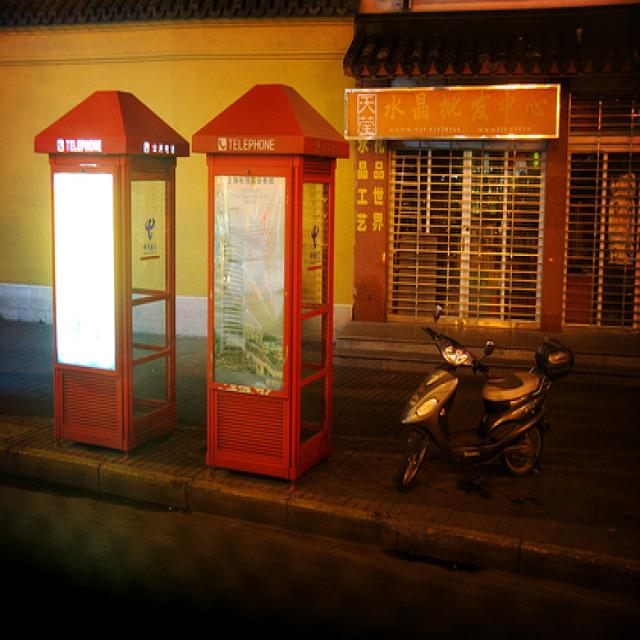Motorbike: (402, 289, 558, 492)
